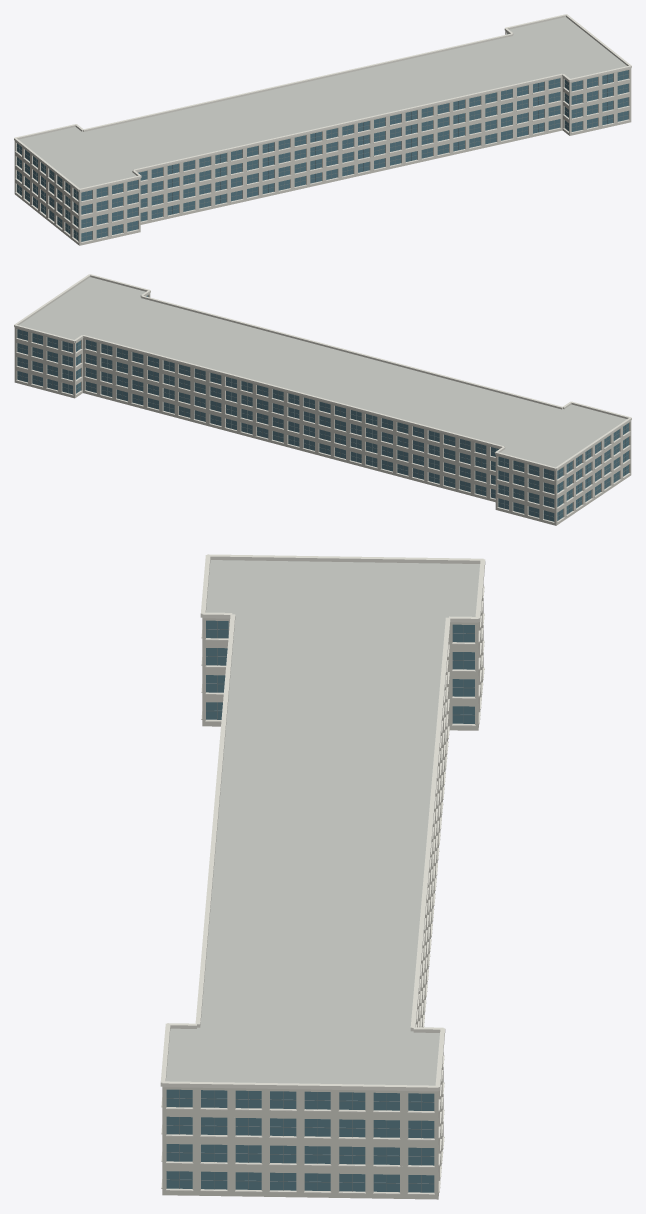
3 renders of one model, top to bottom at view 1: azimuth 30°, elevation 25°; view 2: azimuth 150°, elevation 25°; view 3: azimuth 270°, elevation 25°, orthographic. The views are drawn at different scales.
Visible parts, largest first — view 1: roof, wall, glass, trim, metal; view 2: roof, wall, glass, trim, metal; view 3: roof, wall, glass, trim, metal.
Boxes of the visible parts, <box> form: roof: <box>19,17,626,188</box>; wall: <box>14,31,631,245</box>; glass: <box>17,33,628,241</box>; trim: <box>14,14,631,243</box>; metal: <box>17,71,628,240</box>; roof: <box>19,277,626,467</box>; wall: <box>14,293,631,525</box>; glass: <box>17,295,628,521</box>; trim: <box>14,274,631,522</box>; metal: <box>17,331,628,520</box>; roof: <box>166,560,479,1085</box>; wall: <box>162,584,483,1199</box>; glass: <box>166,620,474,1192</box>; trim: <box>160,554,485,1194</box>; metal: <box>166,621,474,1192</box>.
Size of the model in its own units: 132 by 13.04 by 34.09.
